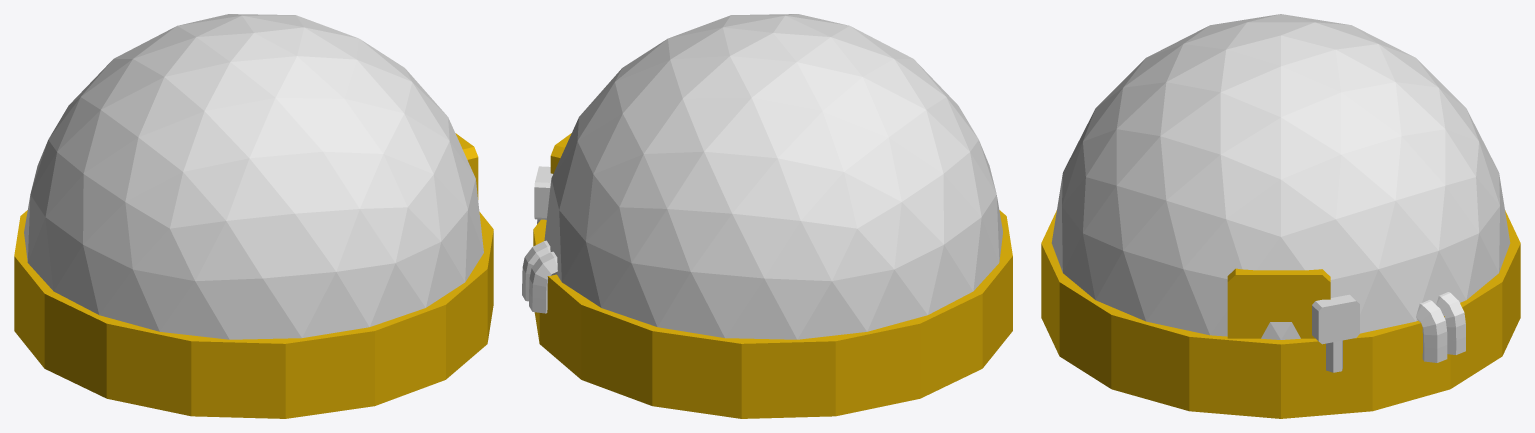
The model's file is LargeHouse.glb.
3 renders of one model, left to right at view 1: azimuth 30°, elevation 25°; view 2: azimuth 150°, elevation 25°; view 3: azimuth 270°, elevation 25°, orthographic.
Visible parts, largest first — view 1: Cube.026; view 2: Cube.026; view 3: Cube.026.
Boxes of the visible parts, x1=… form: Cube.026: x1=14, y1=14, x2=493, y2=418; Cube.026: x1=522, y1=14, x2=1012, y2=418; Cube.026: x1=1041, y1=14, x2=1520, y2=418.
Size of the model in its own units: 11.35 by 7.28 by 11.21.
